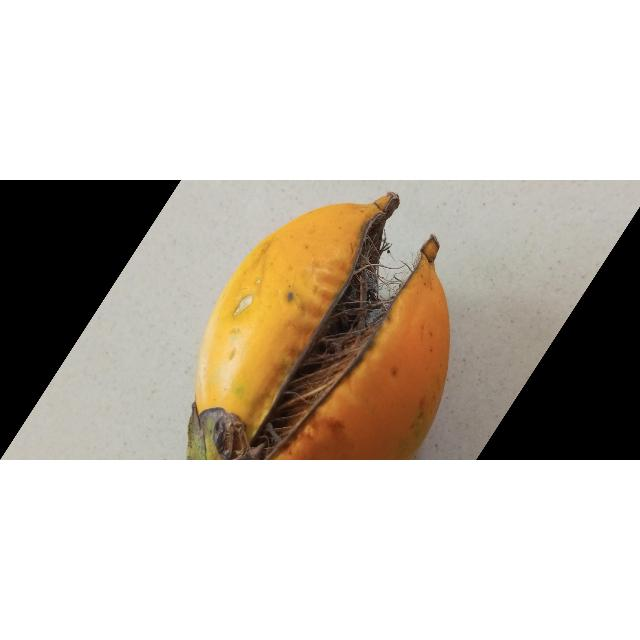damaged: (186, 193, 450, 461)
